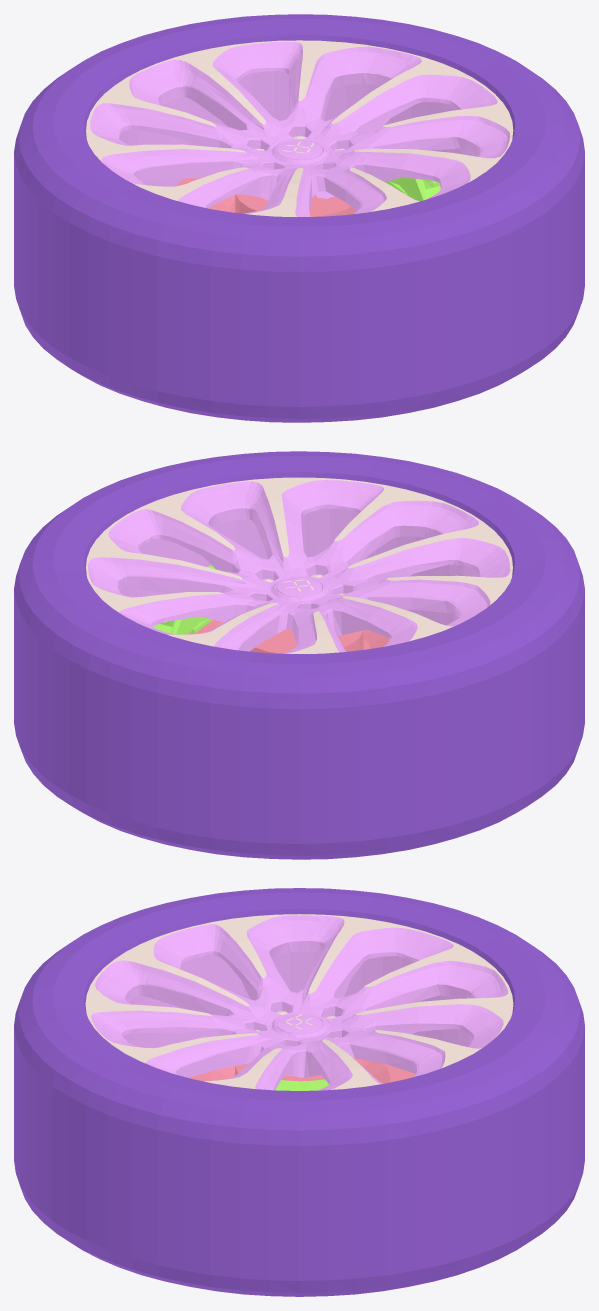
File: wheel.gltf
3 renders of one model, top to bottom at view 1: azimuth 30°, elevation 25°; view 2: azimuth 150°, elevation 25°; view 3: azimuth 270°, elevation 25°, orthographic.
Visible parts, largest first — view 1: Tire, RimsBlack, RimsSilver, Disc, Pad; view 2: Tire, RimsBlack, RimsSilver, Disc, Pad; view 3: Tire, RimsBlack, RimsSilver, Disc.
Boxes of the visible parts, x1,y1,x2,y2 form: Tire: (14,14,584,422); RimsBlack: (90,41,510,216); RimsSilver: (86,40,513,216); Disc: (177,178,409,216); Pad: (385,177,440,201); Tire: (14,451,584,859); RimsBlack: (88,480,510,653); RimsSilver: (86,477,512,653); Disc: (189,609,406,653); Pad: (153,565,215,634); Tire: (14,888,584,1296); RimsBlack: (91,915,508,1090); RimsSilver: (85,914,513,1089); Disc: (188,1058,415,1083).
Bounding box in the file's own units: 990 × 360 × 990.
